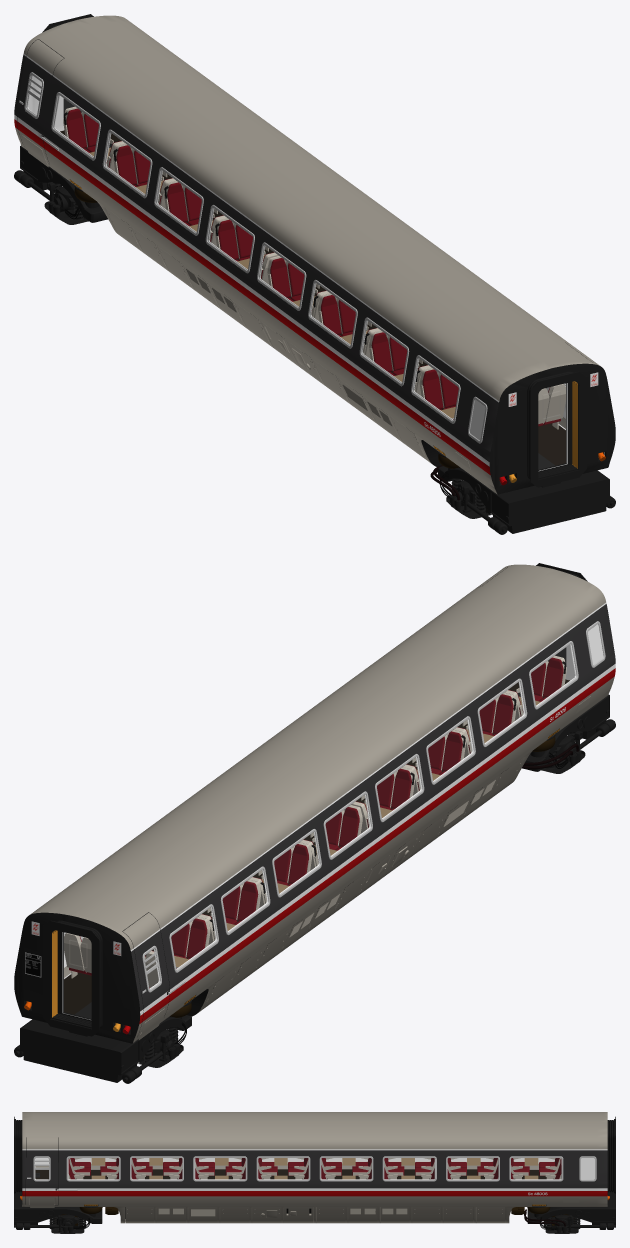
Rendered from train_-_british_rail_apt_std_carriage.glb.
3 views of the same model, one above another, from view 1: azimuth 30°, elevation 25°; view 2: azimuth 150°, elevation 25°; view 3: azimuth 270°, elevation 25° (orthographic). The views are drawn at different scales.
Parts seen in each view (by area): view 1: Main Body_0, Seats_7, bogie_back, Botton Panels_2, Rear Door Surround_1, Interior Walls_3, bogie_front; view 2: Main Body_0, Seats_7, bogie_front, Botton Panels_2, Rear Door Surround_1, Interior Walls_3, bogie_back; view 3: Main Body_0, Botton Panels_2, Seats_7, Interior Walls_3, bogie_front, bogie_back, Tables_8, Rear Door Surround_1, Step.001_21, Undercarriage.002_14.
Part boxes in pixels (<box>): Main Body_0: <box>14,15,615,494</box>; Seats_7: <box>63,106,565,429</box>; bogie_back: <box>430,451,615,534</box>; Botton Panels_2: <box>105,208,428,461</box>; Rear Door Surround_1: <box>42,14,586,487</box>; Interior Walls_3: <box>26,75,604,471</box>; bogie_front: <box>14,146,107,224</box>; Main Body_0: <box>14,564,615,1043</box>; Seats_7: <box>64,655,566,988</box>; bogie_front: <box>14,1000,191,1083</box>; Botton Panels_2: <box>201,757,523,1010</box>; Rear Door Surround_1: <box>43,563,587,1036</box>; Interior Walls_3: <box>62,644,576,1020</box>; bogie_back: <box>522,694,615,773</box>; Main Body_0: <box>22,1112,607,1223</box>; Botton Panels_2: <box>125,1207,504,1223</box>; Seats_7: <box>68,1158,561,1179</box>; Interior Walls_3: <box>35,1158,561,1179</box>; bogie_front: <box>524,1191,615,1233</box>; bogie_back: <box>14,1191,102,1233</box>; Tables_8: <box>91,1158,538,1179</box>; Rear Door Surround_1: <box>14,1116,615,1193</box>; Step.001_21: <box>30,1198,54,1207</box>; Undercarriage.002_14: <box>35,1173,524,1214</box>.
Bounding box in the file's own units: 3.16 × 3.82 × 20.51.
32 materials, 2 textured.
